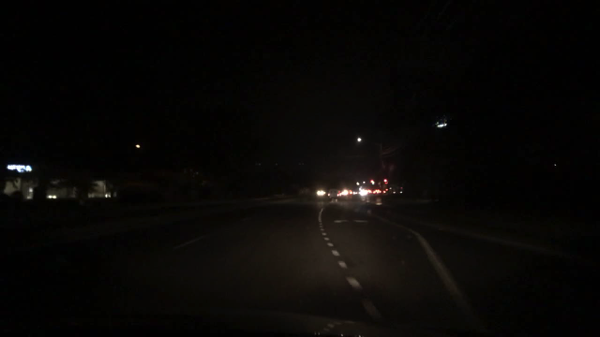car: (385, 185, 401, 198), (359, 186, 374, 198), (327, 189, 341, 201), (373, 187, 385, 198), (338, 190, 350, 198), (350, 189, 359, 197), (317, 190, 325, 198)
